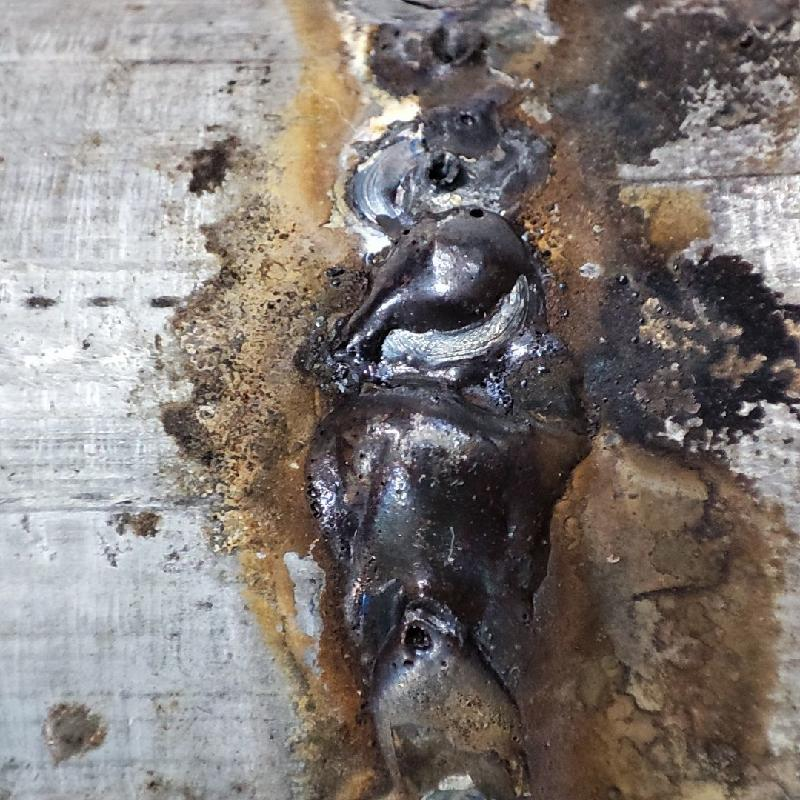Not_fully_soldered: (352, 611, 540, 799)
Surface_pores: (385, 618, 457, 676)
Weld: (319, 215, 563, 604)
